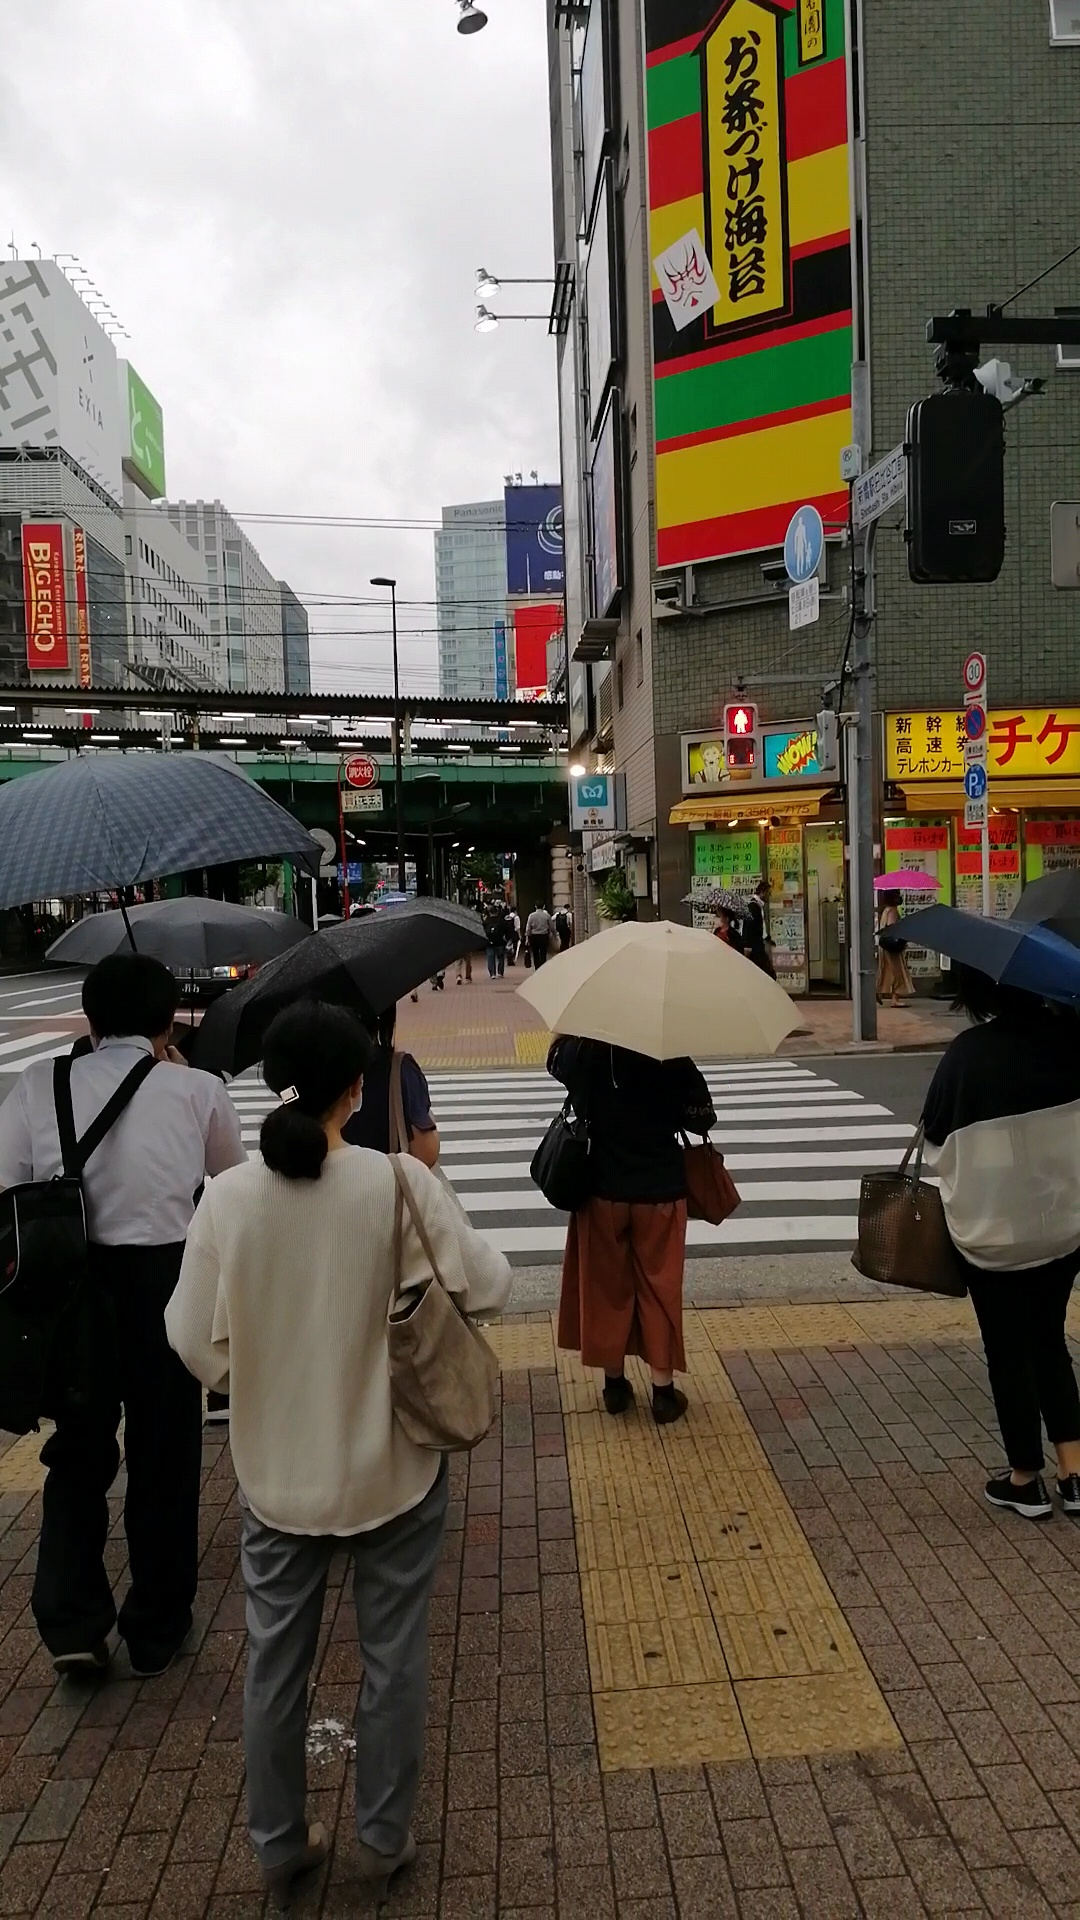red: (720, 702, 756, 767)
